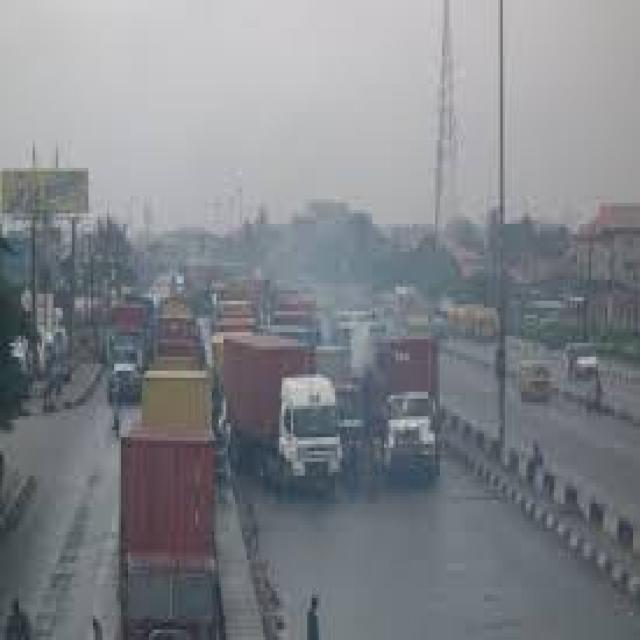Smoke: (354, 328, 376, 374)
